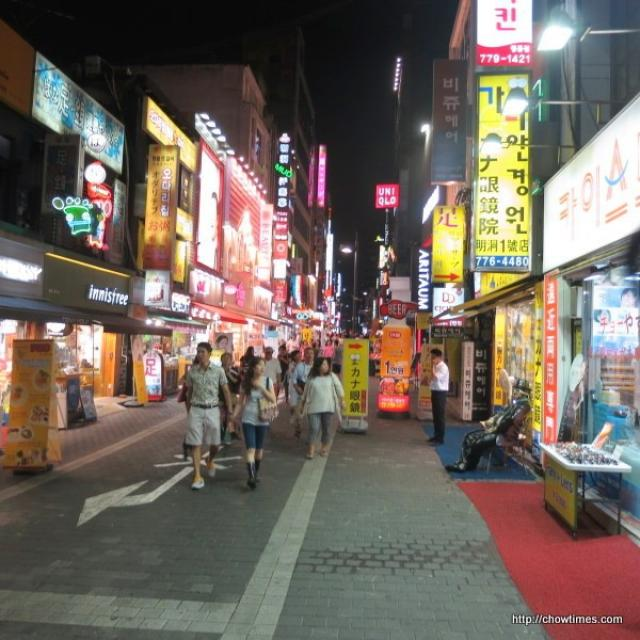body: (444, 374, 535, 476), (179, 338, 235, 492), (226, 354, 281, 492), (298, 356, 346, 460), (592, 282, 640, 356), (423, 346, 452, 447), (218, 351, 242, 442), (177, 353, 202, 416), (290, 346, 316, 396), (262, 346, 284, 399), (238, 346, 258, 404), (286, 348, 303, 407), (276, 342, 290, 406), (308, 328, 371, 342), (328, 338, 344, 375), (285, 333, 302, 365), (298, 338, 312, 373), (211, 331, 233, 353), (321, 338, 335, 357), (295, 331, 301, 340)
